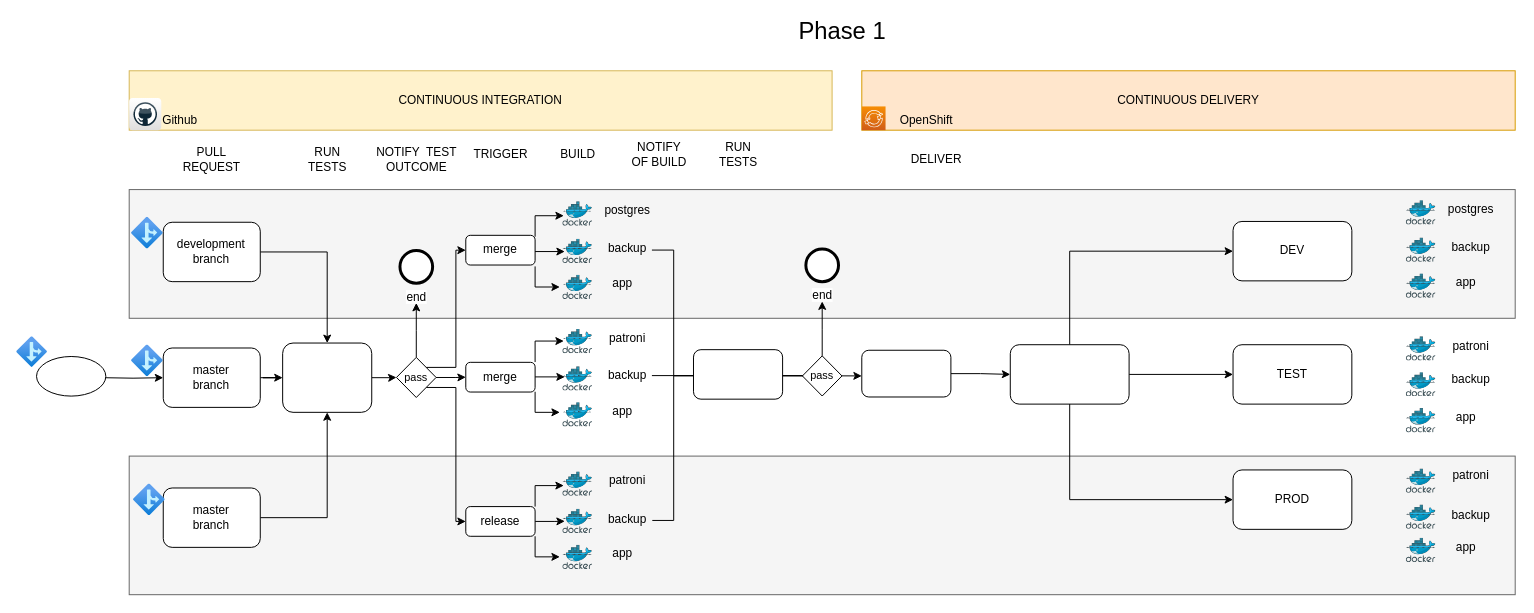
Image size: 1534x613. Some labels were removed from this diagram. The centre of each missing label's shape, as x and y in pixels:
"- lint - unit test - npm audit - sonar scanner" belongs at point (327, 377).
"Helm" belongs at point (906, 373).
"hotfix branch" belongs at point (71, 376).
"quai.io container scan" belongs at point (738, 374).
"TOOLS" belongs at point (1069, 374).
